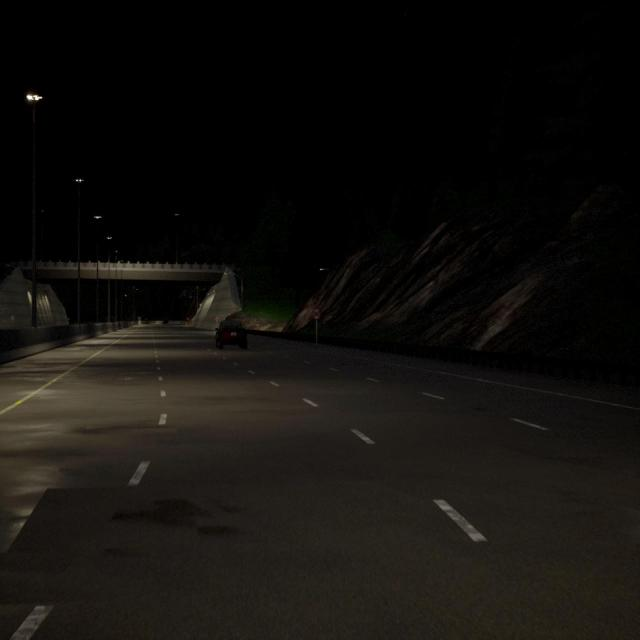Traffic_Signs: (312, 308, 321, 320), (215, 316, 219, 321), (11, 315, 14, 320)
Vehicle: (215, 320, 248, 350)
